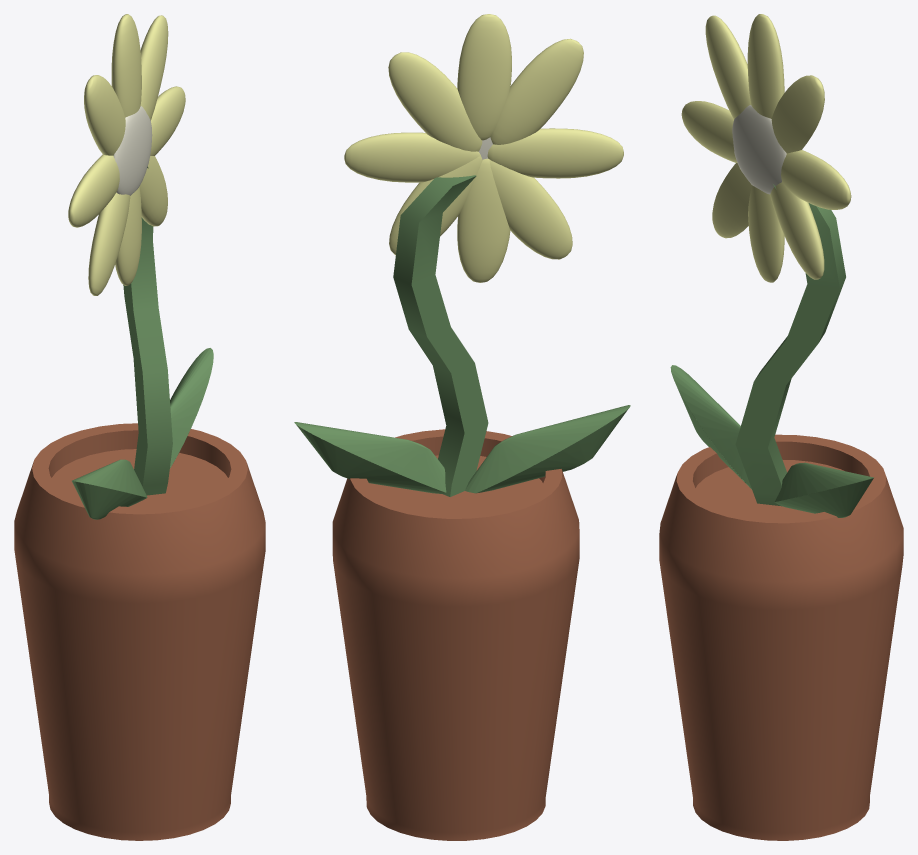
The model's file is zhiwu2.fbx.
3 renders of one model, left to right at view 1: azimuth 30°, elevation 25°; view 2: azimuth 150°, elevation 25°; view 3: azimuth 270°, elevation 25°, orthographic. The views are drawn at different scales.
Visible parts, largest first — view 1: polySurface62, polySurface67, polySurface72, polySurface71, polySurface69, polySurface63, polySurface75, polySurface68, polySurface70, polySurface73, polySurface74, polySurface61 (+2 smaller); view 2: polySurface62, polySurface67, polySurface69, polySurface75, polySurface71, polySurface70, polySurface74, polySurface72, polySurface73, polySurface65, polySurface63, polySurface64 (+2 smaller); view 3: polySurface62, polySurface67, polySurface68, polySurface71, polySurface70, polySurface74, polySurface61, polySurface65, polySurface69, polySurface73, polySurface75, polySurface72 (+3 smaller).
Part boxes in pixels (<box>): polySurface62: <box>14,423,265,840</box>; polySurface67: <box>123,166,172,495</box>; polySurface72: <box>88,192,130,295</box>; polySurface71: <box>111,14,141,117</box>; polySurface69: <box>84,75,125,155</box>; polySurface63: <box>170,348,213,467</box>; polySurface75: <box>68,154,119,227</box>; polySurface68: <box>113,106,152,195</box>; polySurface70: <box>140,15,168,120</box>; polySurface73: <box>115,186,141,285</box>; polySurface74: <box>150,86,185,155</box>; polySurface61: <box>139,156,167,226</box>; polySurface62: <box>332,429,579,840</box>; polySurface67: <box>393,175,488,496</box>; polySurface69: <box>490,38,583,144</box>; polySurface75: <box>487,128,623,178</box>; polySurface71: <box>457,14,511,140</box>; polySurface70: <box>388,52,482,151</box>; polySurface74: <box>344,132,480,182</box>; polySurface72: <box>489,160,572,259</box>; polySurface73: <box>457,158,510,282</box>; polySurface65: <box>465,405,630,493</box>; polySurface63: <box>294,422,446,492</box>; polySurface64: <box>296,425,445,493</box>; polySurface62: <box>659,434,903,840</box>; polySurface67: <box>735,184,845,506</box>; polySurface68: <box>732,105,786,194</box>; polySurface71: <box>747,14,784,118</box>; polySurface70: <box>771,75,824,153</box>; polySurface74: <box>781,150,851,209</box>; polySurface61: <box>770,182,824,279</box>; polySurface65: <box>670,365,751,488</box>; polySurface69: <box>705,15,750,119</box>; polySurface73: <box>748,185,784,282</box>; polySurface75: <box>681,101,737,162</box>; polySurface72: <box>712,163,751,238</box>.
Bounding box in the file's own units: 79.91 × 255 × 72.47.
